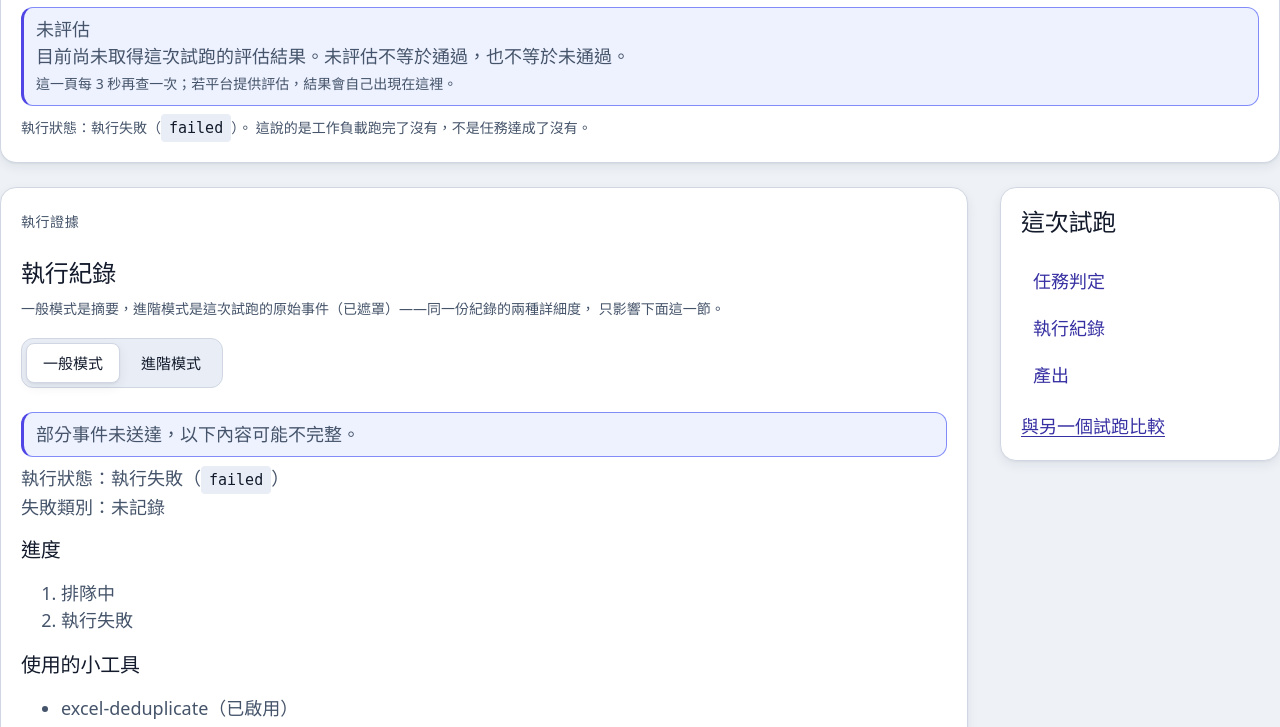
Scenario: the advanced mode names the missing sequence numbers and renders payloads inert
The width and height of the screenshot is (1280, 727).
(page scrolled)
Click the button "進階模式". click: {"x": 171, "y": 363}
box: [124,343,218,383]
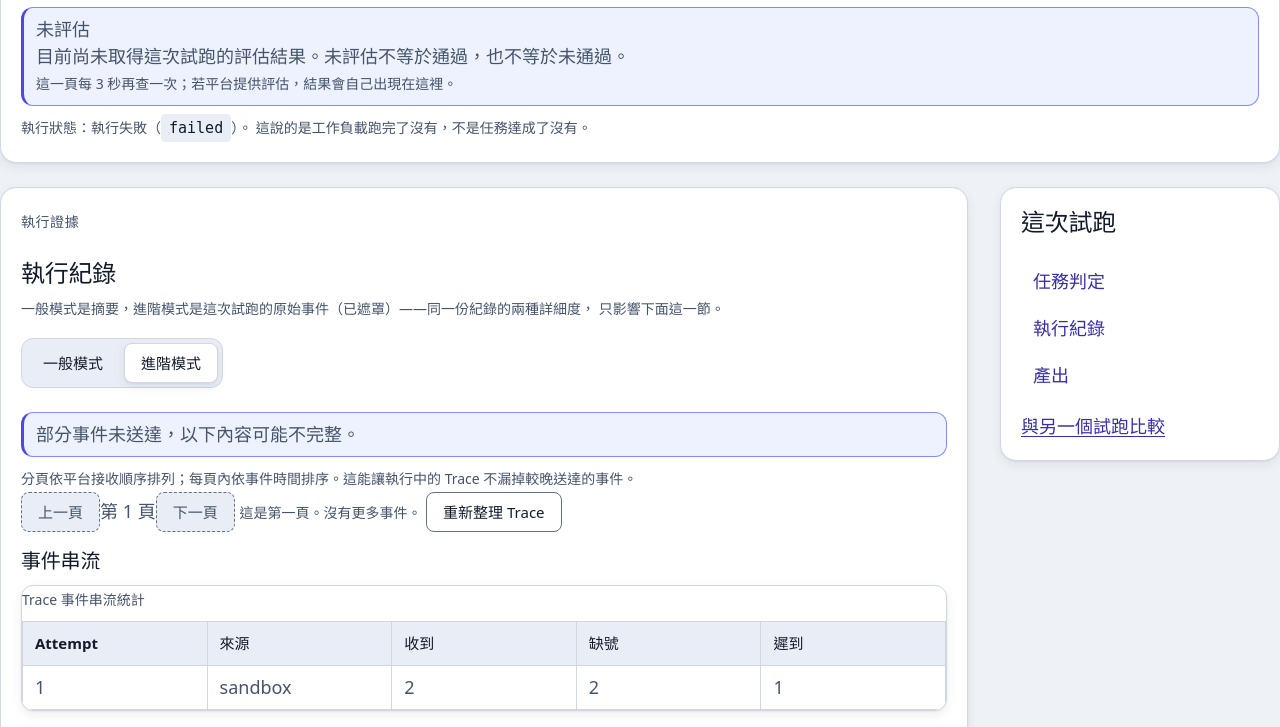
Result: the text "遲到" is shown at [761,622,946,666]
Result: the table shows "2" at [404,675,414,699]
Result: the text "Trace 事件串流統計" is shown at [22,590,145,609]
